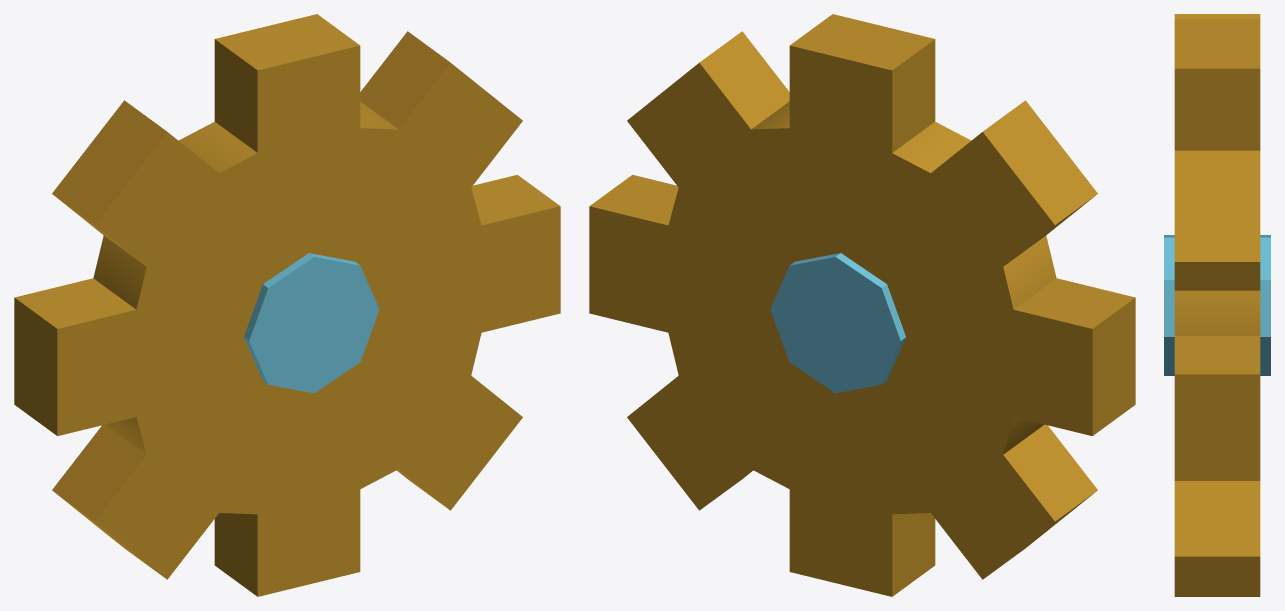
The model's file is gear_erfinder_charm.glb.
3 renders of one model, left to right at view 1: azimuth 30°, elevation 25°; view 2: azimuth 150°, elevation 25°; view 3: azimuth 270°, elevation 25°, orthographic.
Parts seen in each view (by area): view 1: body; view 2: body; view 3: body.
Boxes of the visible parts, box(x1,y1,x2,y2) form: body: box(14, 14, 560, 596); body: box(589, 14, 1135, 596); body: box(1164, 14, 1270, 596).
Bounding box in the file's own units: 0.108 × 0.108 × 0.02.
